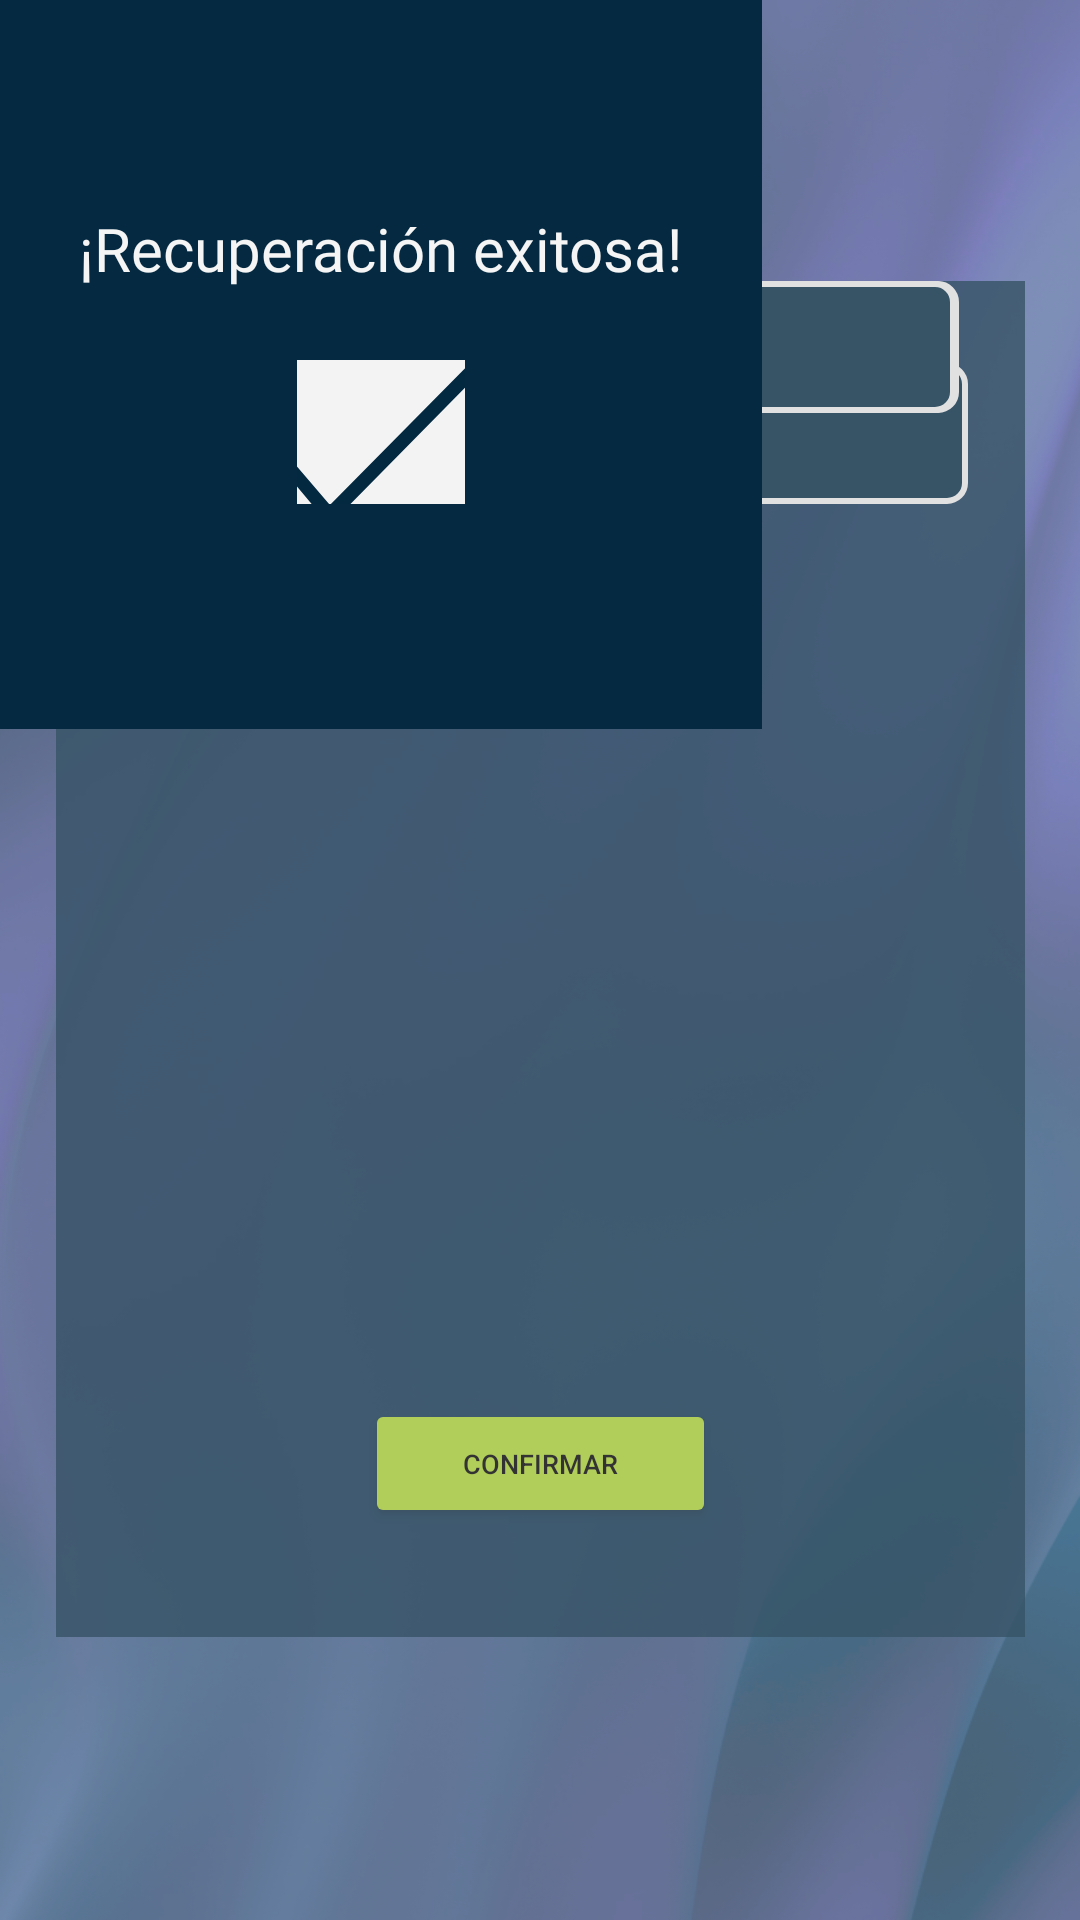

Point at icon controls on the screen. Image size 1080w x 1920h, points as [x,y].
checkbox: [381,432]
